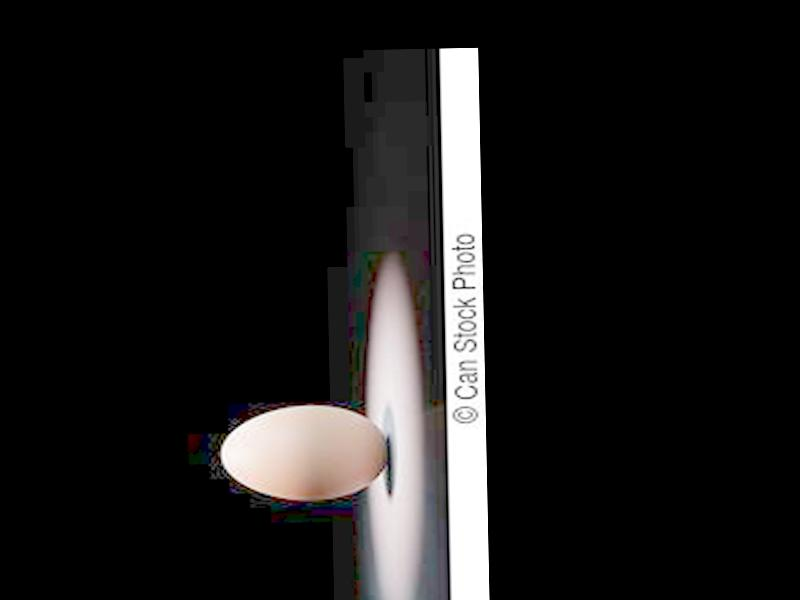Eggs: (221, 403, 391, 504)
